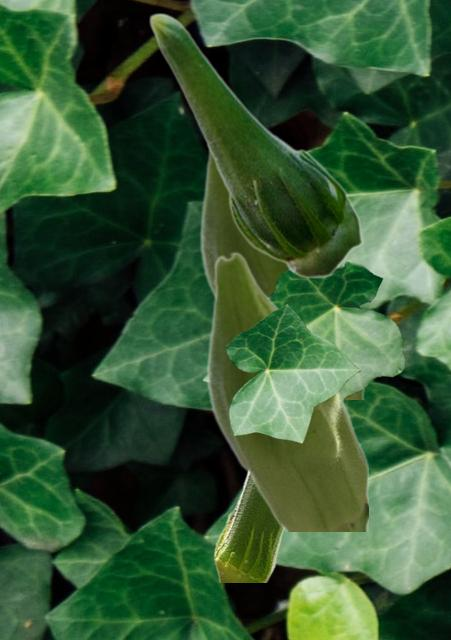okra: (148, 12, 362, 278), (206, 251, 367, 530), (199, 147, 363, 398), (213, 473, 284, 581)
